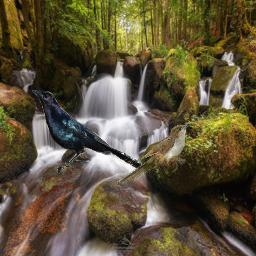Crow: (32, 90, 143, 176)
Cuckoo: (116, 123, 192, 184)
